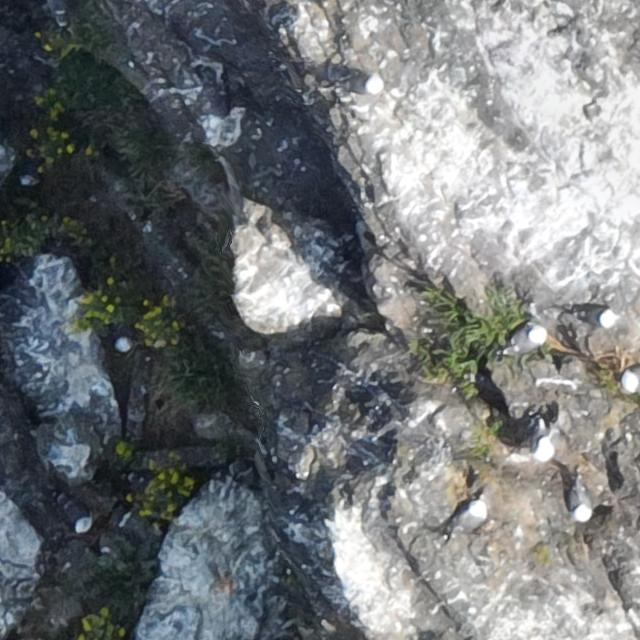umineko: (504, 324, 547, 359), (449, 500, 487, 537), (59, 498, 90, 532), (535, 420, 554, 468), (343, 76, 382, 95), (572, 306, 612, 324), (572, 484, 590, 518)
